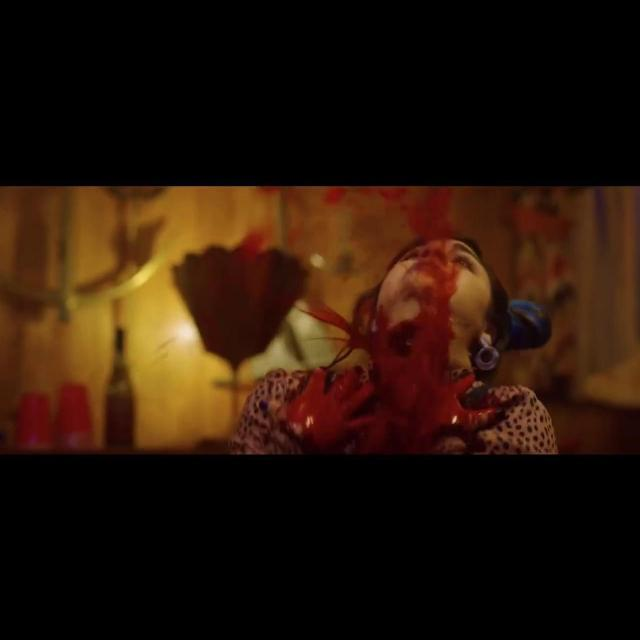blood: (276, 246, 502, 455), (326, 188, 458, 236), (506, 204, 570, 282), (261, 188, 305, 239), (233, 233, 264, 258), (425, 238, 445, 248)
